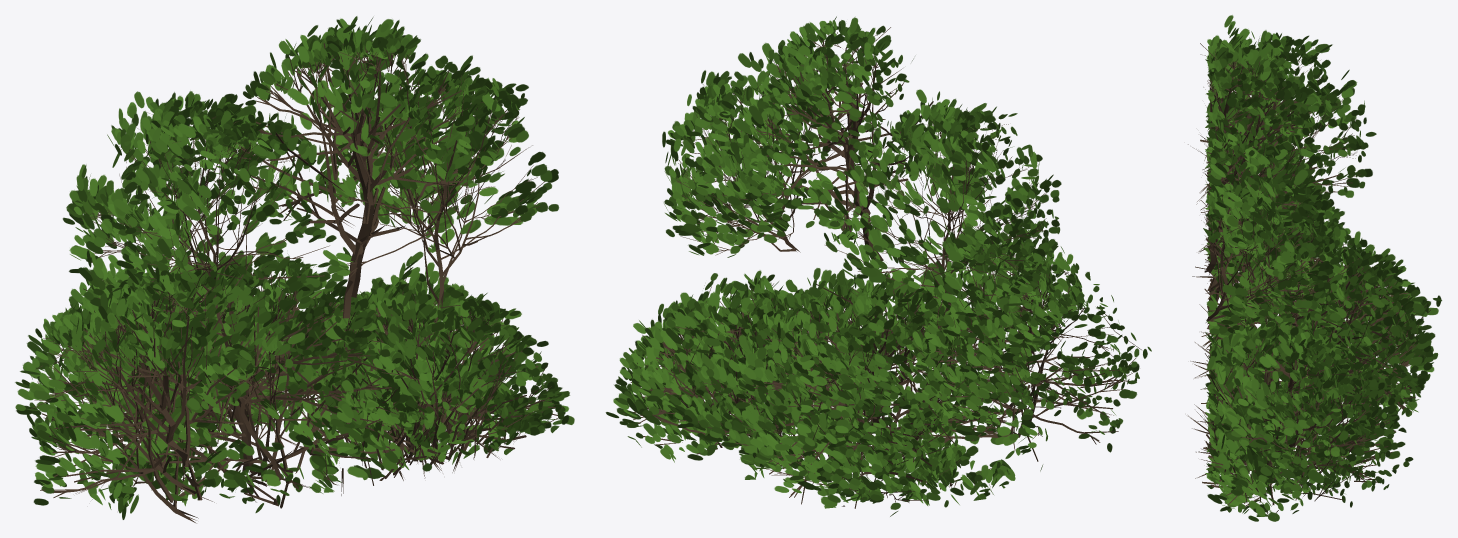
3 renders of one model, left to right at view 1: azimuth 30°, elevation 25°; view 2: azimuth 150°, elevation 25°; view 3: azimuth 270°, elevation 25°, orthographic. The views are drawn at different scales.
Parts seen in each view (by area): view 1: oak 01.001_trunk_Mat.001_0.366; view 2: oak 01.001_trunk_Mat.001_0.366; view 3: oak 01.001_trunk_Mat.001_0.366.
Part boxes in pixels (x1,y1,x2,y2): oak 01.001_trunk_Mat.001_0.366: (15,16,574,523); oak 01.001_trunk_Mat.001_0.366: (605,16,1151,516); oak 01.001_trunk_Mat.001_0.366: (1188,15,1441,521).
Size of the model in its own units: 5.95 by 4.76 by 2.77.
Materials: 2 (1 with a texture image).
